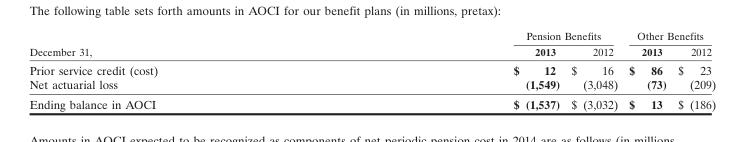table: (28, 29, 715, 110)
table column: (28, 29, 335, 110), (335, 29, 565, 110), (565, 29, 622, 110), (622, 29, 671, 110), (671, 29, 715, 110)
table column header: (28, 29, 715, 60)
table row: (28, 43, 715, 60), (28, 60, 715, 77), (28, 77, 715, 94), (28, 94, 715, 110), (28, 29, 715, 43)
table spanning cell: (28, 29, 335, 60), (335, 29, 622, 43), (622, 29, 715, 43)
